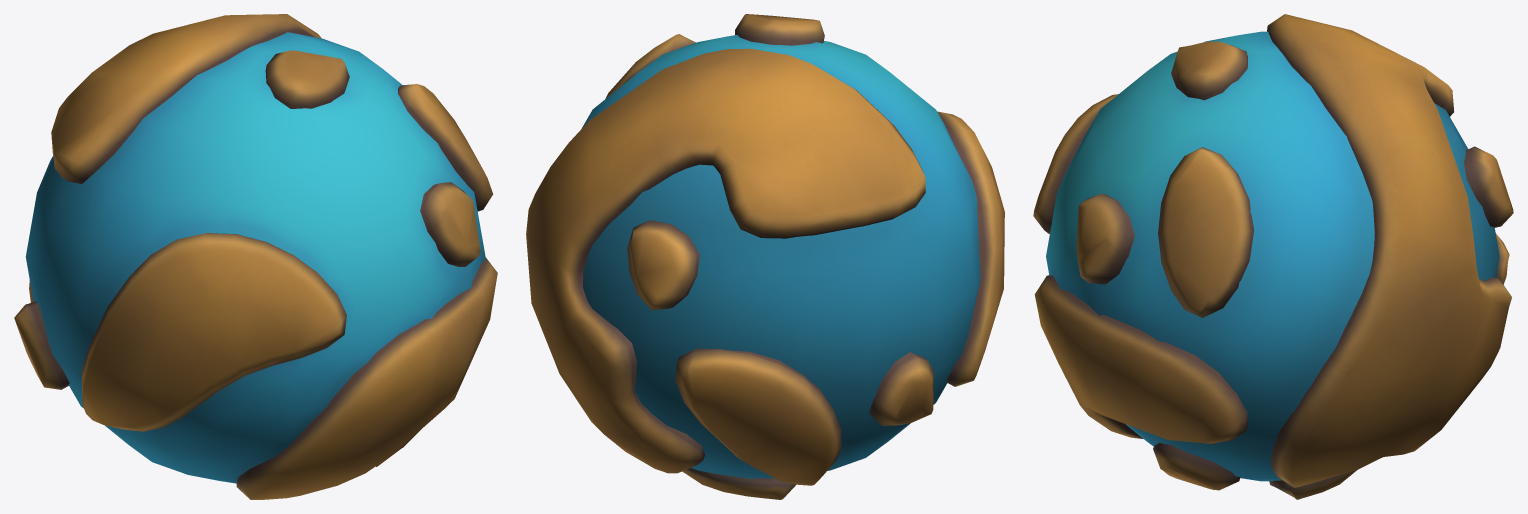
The model's file is Planet_SmoothIslands_Yellow.fbx.
3 views of the same model, side by side, from view 1: azimuth 30°, elevation 25°; view 2: azimuth 150°, elevation 25°; view 3: azimuth 270°, elevation 25° (orthographic).
Parts seen in each view (by area): view 1: Planet_SmoothIslands_Yellow; view 2: Planet_SmoothIslands_Yellow; view 3: Planet_SmoothIslands_Yellow.
Boxes of the visible parts, x1=… form: Planet_SmoothIslands_Yellow: x1=14, y1=14, x2=497, y2=499; Planet_SmoothIslands_Yellow: x1=526, y1=14, x2=1004, y2=499; Planet_SmoothIslands_Yellow: x1=1033, y1=14, x2=1513, y2=499.
Size of the model in its own units: 202 by 212 by 212.
